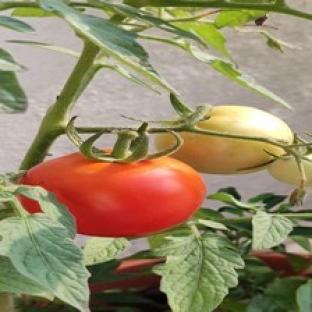Tomato: (20, 154, 206, 236), (172, 133, 284, 174), (268, 155, 300, 185)
